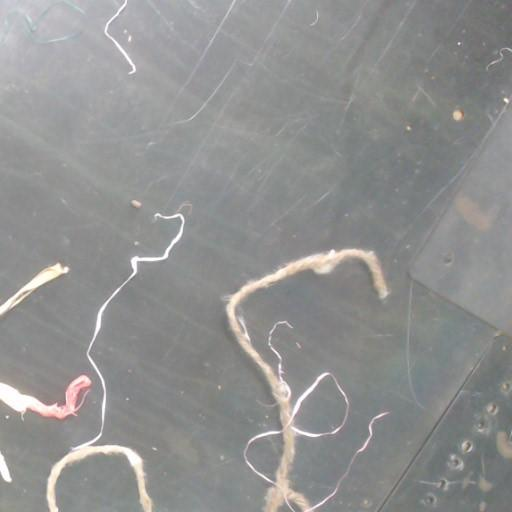conveyor belt: (57, 455, 141, 511)
jute: (223, 248, 388, 511), (46, 443, 152, 511)
thread: (72, 213, 184, 450), (244, 371, 349, 487), (0, 375, 91, 418), (291, 372, 349, 438), (0, 263, 68, 316), (104, 0, 136, 74), (349, 412, 387, 466), (243, 430, 279, 486), (268, 321, 292, 399), (302, 472, 347, 511), (305, 480, 340, 511), (0, 452, 10, 481), (25, 16, 33, 33), (361, 126, 372, 133)
